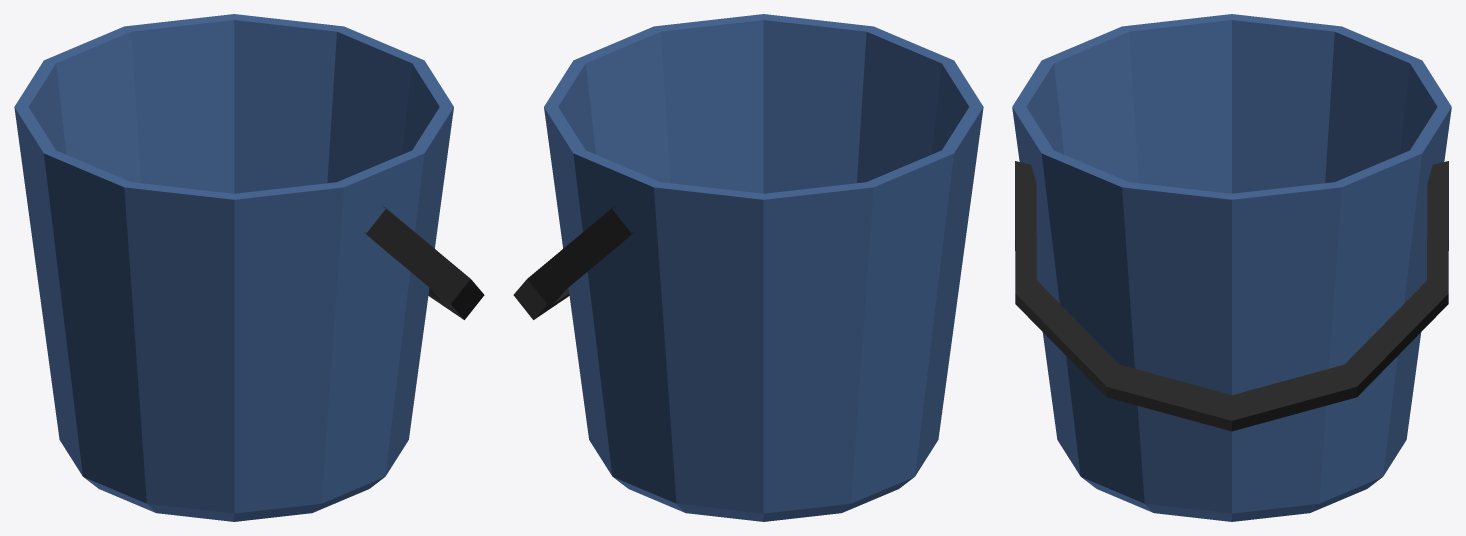
File: Bucket.fbx
The picture shows the model from 3 angles, left to right: view 1: azimuth 30°, elevation 25°; view 2: azimuth 150°, elevation 25°; view 3: azimuth 270°, elevation 25°; orthographic projection.
Visible parts, largest first — view 1: BUcket; view 2: BUcket; view 3: BUcket.
Part boxes in pixels (box(x1,y1,x2,y2)): BUcket: box(14, 14, 484, 521); BUcket: box(513, 14, 983, 521); BUcket: box(1012, 14, 1451, 521).
Size of the model in its own units: 68.2 by 56.86 by 64.91.
